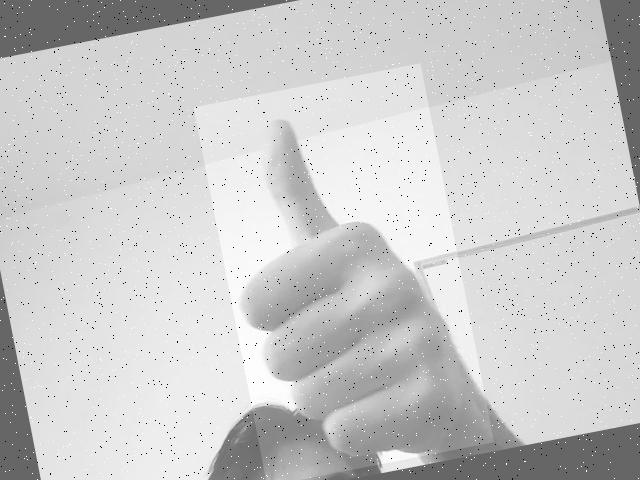good: (233, 94, 489, 467)
